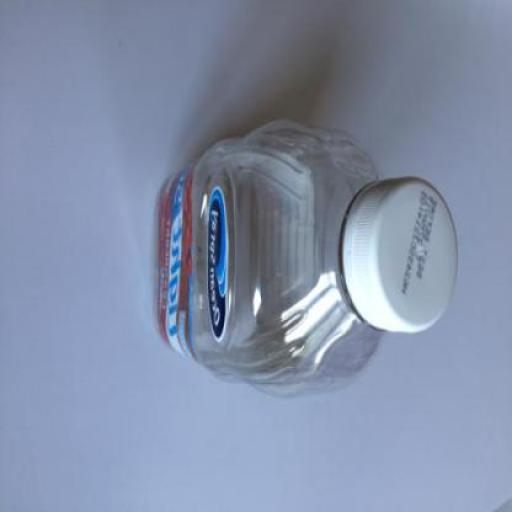plastic: (156, 119, 462, 391), (340, 176, 460, 334), (159, 152, 198, 366)
